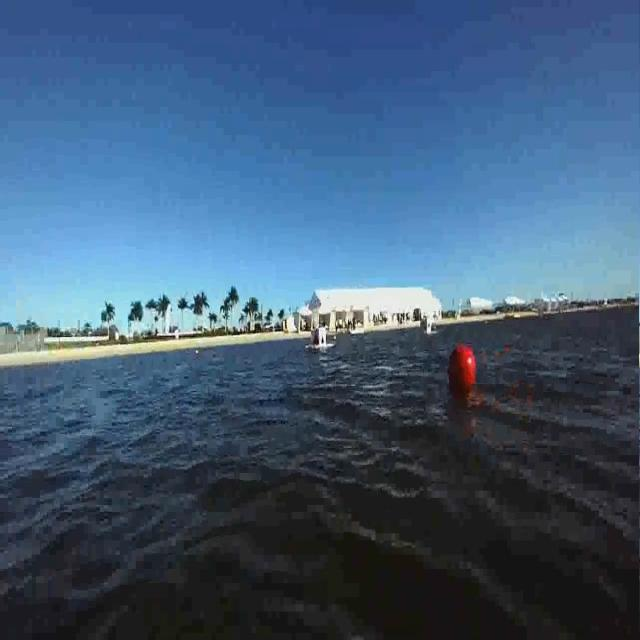red-buoy: (444, 332, 479, 396)
